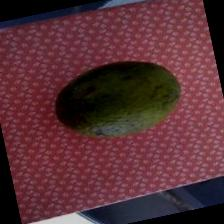Orange Rotten: (36, 37, 199, 165)
